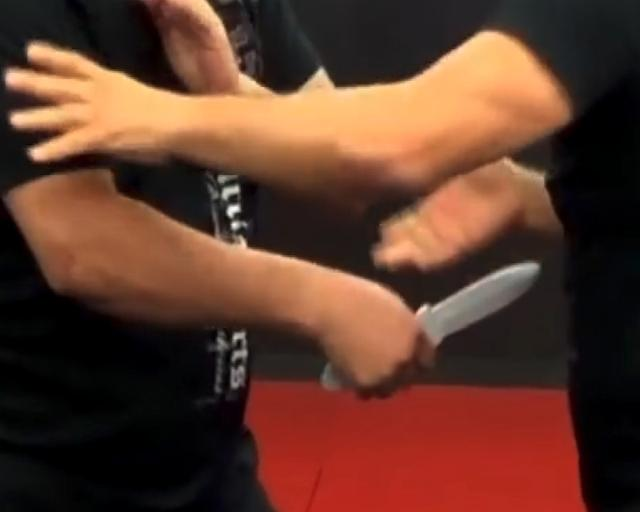pocket-knife: (332, 254, 542, 386)
